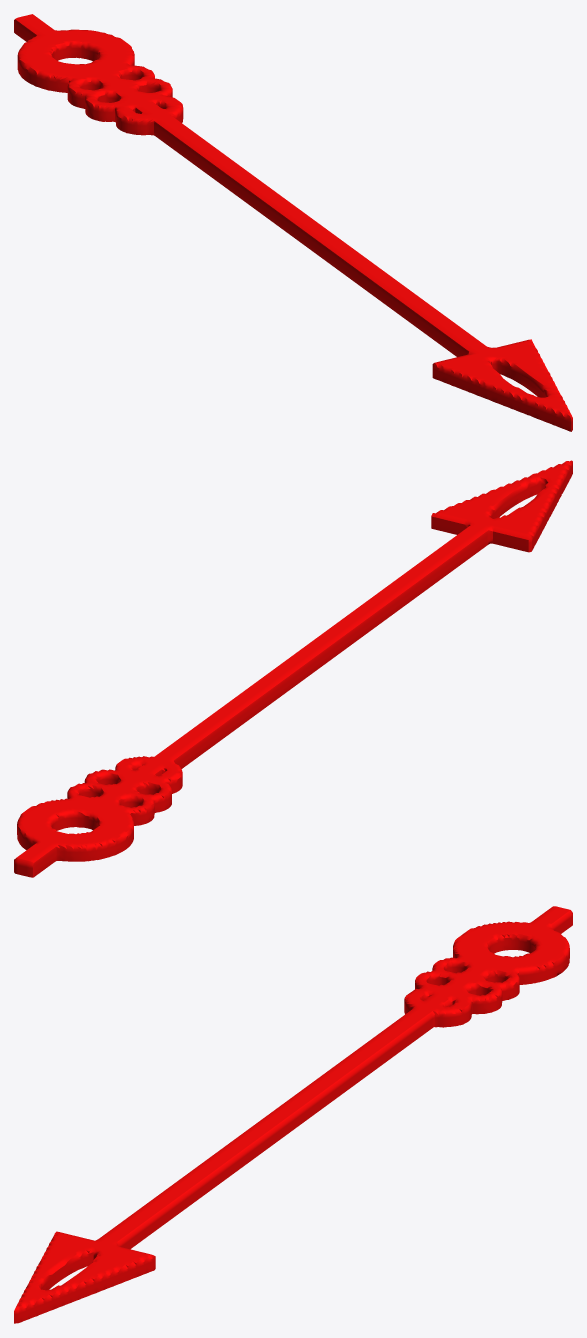
The model's file is hour_hand_for_clock.glb.
The picture shows the model from 3 angles, top to bottom: view 1: azimuth 30°, elevation 25°; view 2: azimuth 150°, elevation 25°; view 3: azimuth 330°, elevation 25°; orthographic projection.
Visible parts, largest first — view 1: Object_2; view 2: Object_2; view 3: Object_2.
Boxes of the visible parts, <box> form: Object_2: <box>14,14,572,431</box>; Object_2: <box>14,460,572,877</box>; Object_2: <box>14,906,572,1323</box>.
Bounding box in the file's own units: 9.99 × 1.5 × 93.63.
